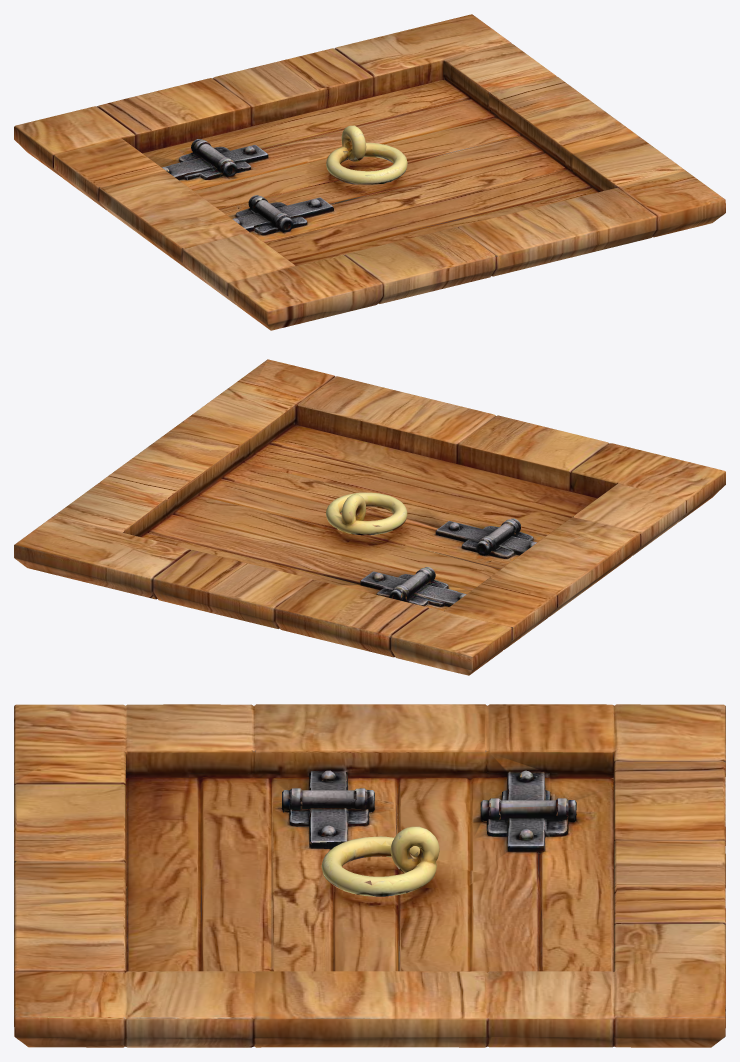
The model's file is trapdoor.glb.
The picture shows the model from 3 angles, top to bottom: view 1: azimuth 30°, elevation 25°; view 2: azimuth 150°, elevation 25°; view 3: azimuth 270°, elevation 25°; orthographic projection. The views are drawn at different scales.
Parts seen in each view (by area): view 1: trapdoor; view 2: trapdoor; view 3: trapdoor.
Boxes of the visible parts, x1,y1,x2,y2 form: trapdoor: (14,14,725,330); trapdoor: (14,359,725,675); trapdoor: (14,704,725,1047).
Size of the model in its own units: 9.23 by 1 by 8.84.
1 material, 1 textured.
